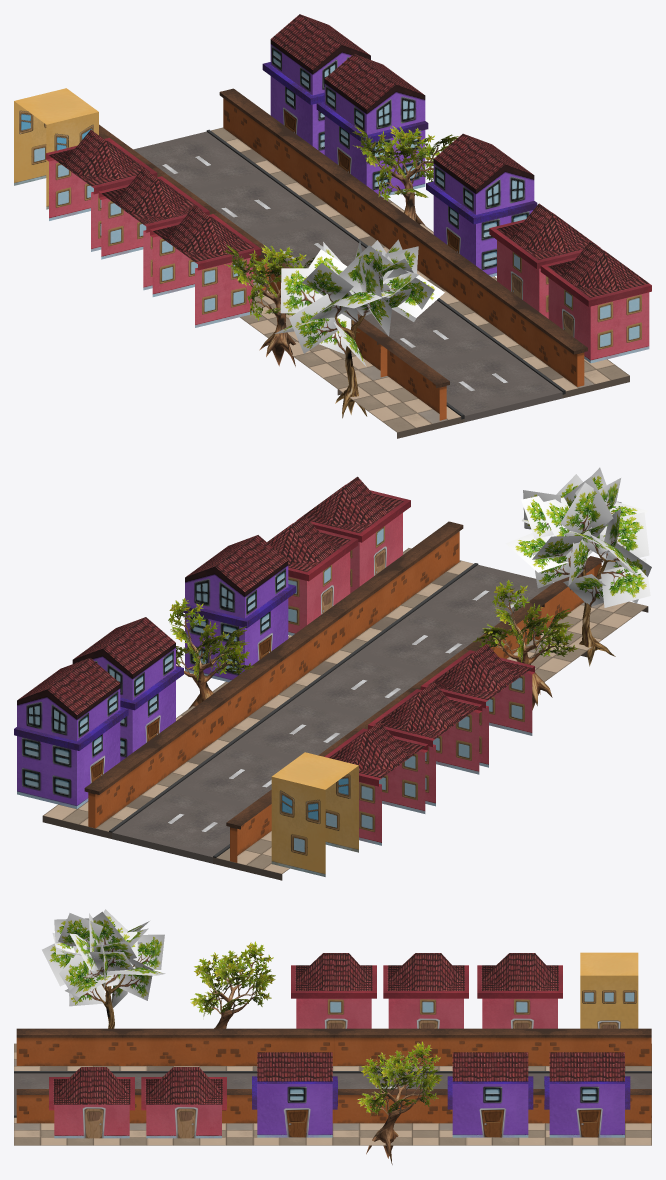
Rendered from Moduolo_01.FBX.
The picture shows the model from 3 angles, top to bottom: view 1: azimuth 30°, elevation 25°; view 2: azimuth 150°, elevation 25°; view 3: azimuth 270°, elevation 25°; orthographic projection. The views are drawn at different scales.
Parts seen in each view (by area): view 1: M01_Casa_E02, M01_Casa_E03, M01_Casa_E05, M01_Casa_D03, M01_Casa_E01, polySurface1662, M01_Casa_D01, M01_Casa_D02, M01_Casa_E04, Asfalto005, M01_Predio_D01, polySurface1663 (+25 smaller); view 2: M01_Casa_E01, M01_Casa_E03, M01_Predio_D01, polySurface1662, M01_Casa_E02, M01_Casa_D01, M01_Casa_D02, M01_Casa_D03, M01_Casa_E05, M01_Casa_E04, Asfalto, polySurface1663 (+28 smaller); view 3: M01_Casa_E02, M01_Casa_E01, M01_Casa_E03, M01_Casa_D01, M01_Casa_D02, M01_Casa_D03, M01_Casa_E04, M01_Casa_E05, M01_Predio_D01, polySurface1663, polySurface1662, Box007 (+28 smaller).
Part boxes in pixels (x1,y1,x2,y2): M01_Casa_E02: (316, 54, 428, 197); M01_Casa_E03: (426, 133, 537, 276); M01_Casa_E05: (540, 241, 651, 363); M01_Casa_D03: (150, 206, 261, 327); M01_Casa_E01: (262, 14, 370, 154); polySurface1662: (274, 240, 444, 353); M01_Casa_D01: (46, 130, 157, 251); M01_Casa_D02: (98, 168, 209, 290); M01_Casa_E04: (489, 203, 600, 318); Asfalto005: (430, 349, 562, 422); M01_Predio_D01: (14, 88, 98, 209); polySurface1663: (302, 239, 418, 366); M01_Casa_E01: (14, 657, 128, 808); M01_Casa_E03: (182, 535, 296, 682); M01_Predio_D01: (271, 752, 358, 876); polySurface1662: (505, 474, 651, 607); M01_Casa_E02: (72, 617, 183, 761); M01_Casa_D01: (324, 722, 428, 845); M01_Casa_D02: (368, 682, 482, 806); M01_Casa_D03: (420, 643, 534, 767); M01_Casa_E05: (296, 476, 410, 593); M01_Casa_E04: (267, 515, 358, 635); Asfalto: (112, 788, 247, 863); polySurface1663: (521, 467, 620, 606); M01_Casa_E02: (447, 1052, 533, 1137); M01_Casa_E01: (544, 1052, 630, 1137); M01_Casa_E03: (252, 1052, 337, 1137); M01_Casa_D01: (477, 953, 562, 1028); M01_Casa_D02: (383, 953, 468, 1028); M01_Casa_D03: (291, 953, 376, 1028); M01_Casa_E04: (141, 1067, 226, 1138); M01_Casa_E05: (49, 1067, 134, 1138); M01_Predio_D01: (580, 952, 638, 1028); polySurface1663: (54, 909, 164, 1008); polySurface1662: (42, 911, 165, 1001); Box007: (16, 1028, 122, 1065).
Size of the model in its own units: 2789 by 5100 by 1394.
Materials: 8 (8 with a texture image).
